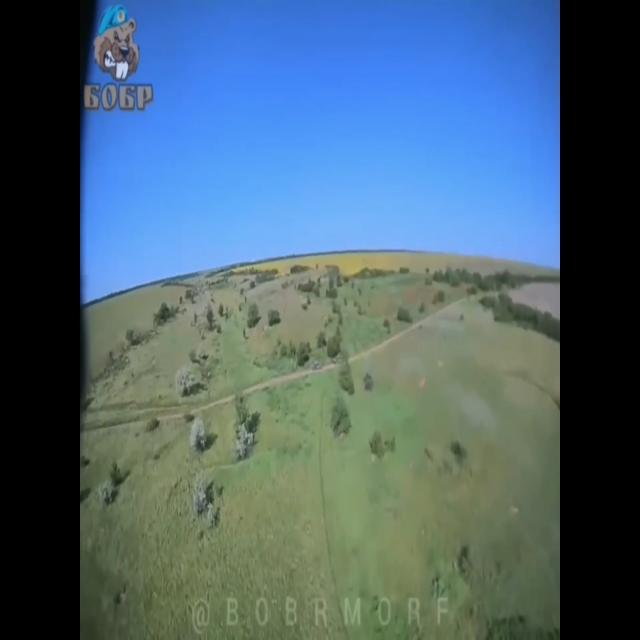BRT: (332, 354, 344, 364), (312, 360, 323, 370)
